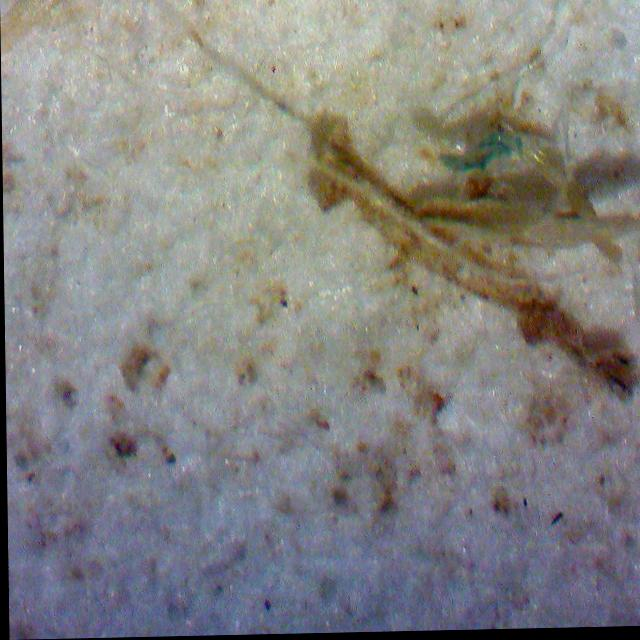microplastic: (437, 134, 523, 174)
